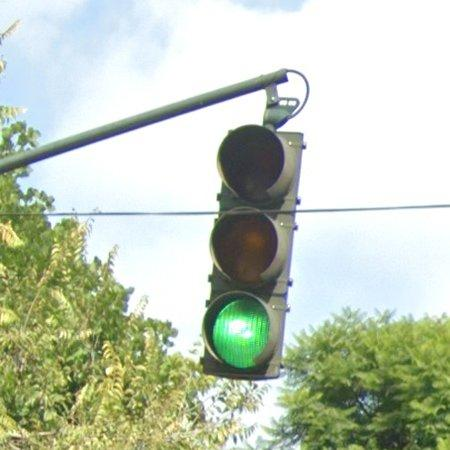traffic lights: (0, 69, 310, 381)
